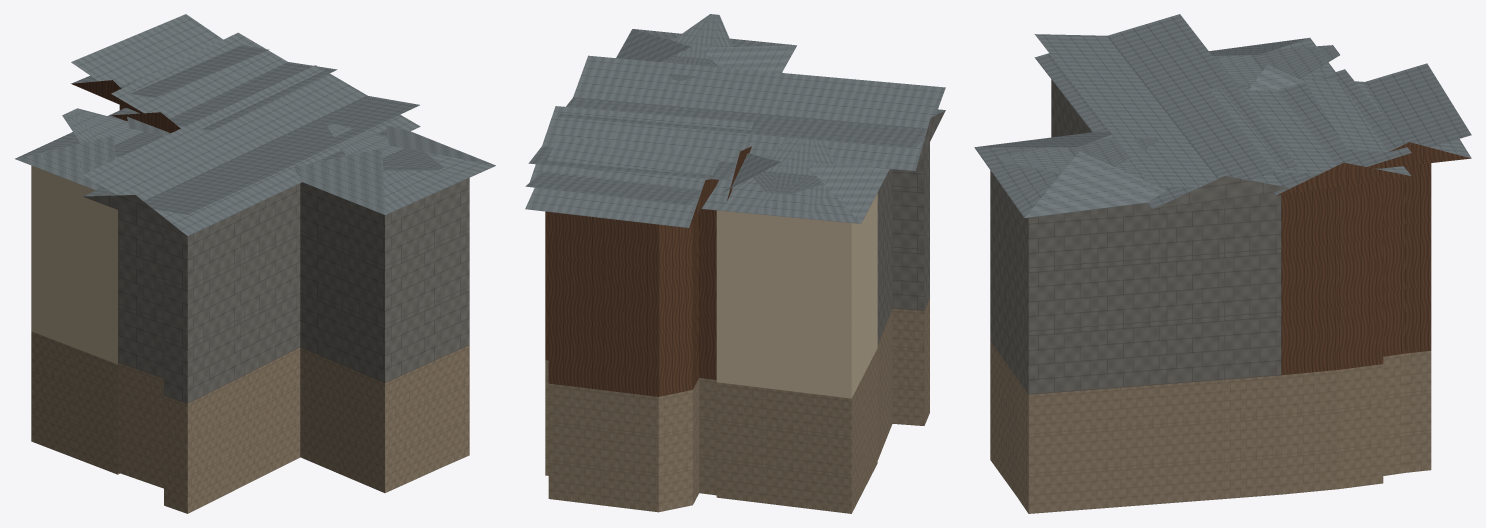
The model's file is bld_c4_5_501.gltf.
The picture shows the model from 3 angles, left to right: view 1: azimuth 30°, elevation 25°; view 2: azimuth 150°, elevation 25°; view 3: azimuth 270°, elevation 25°; orthographic projection. The views are drawn at different scales.
Visible parts, largest first — view 1: bld_c4_5_501; view 2: bld_c4_5_501; view 3: bld_c4_5_501.
Boxes of the visible parts, box(x1,y1,x2,y2) form: bld_c4_5_501: box(15, 14, 495, 513); bld_c4_5_501: box(525, 14, 945, 513); bld_c4_5_501: box(974, 14, 1471, 513).
Size of the model in its own units: 16.97 by 14.5 by 19.28.
7 materials, 7 textured.
